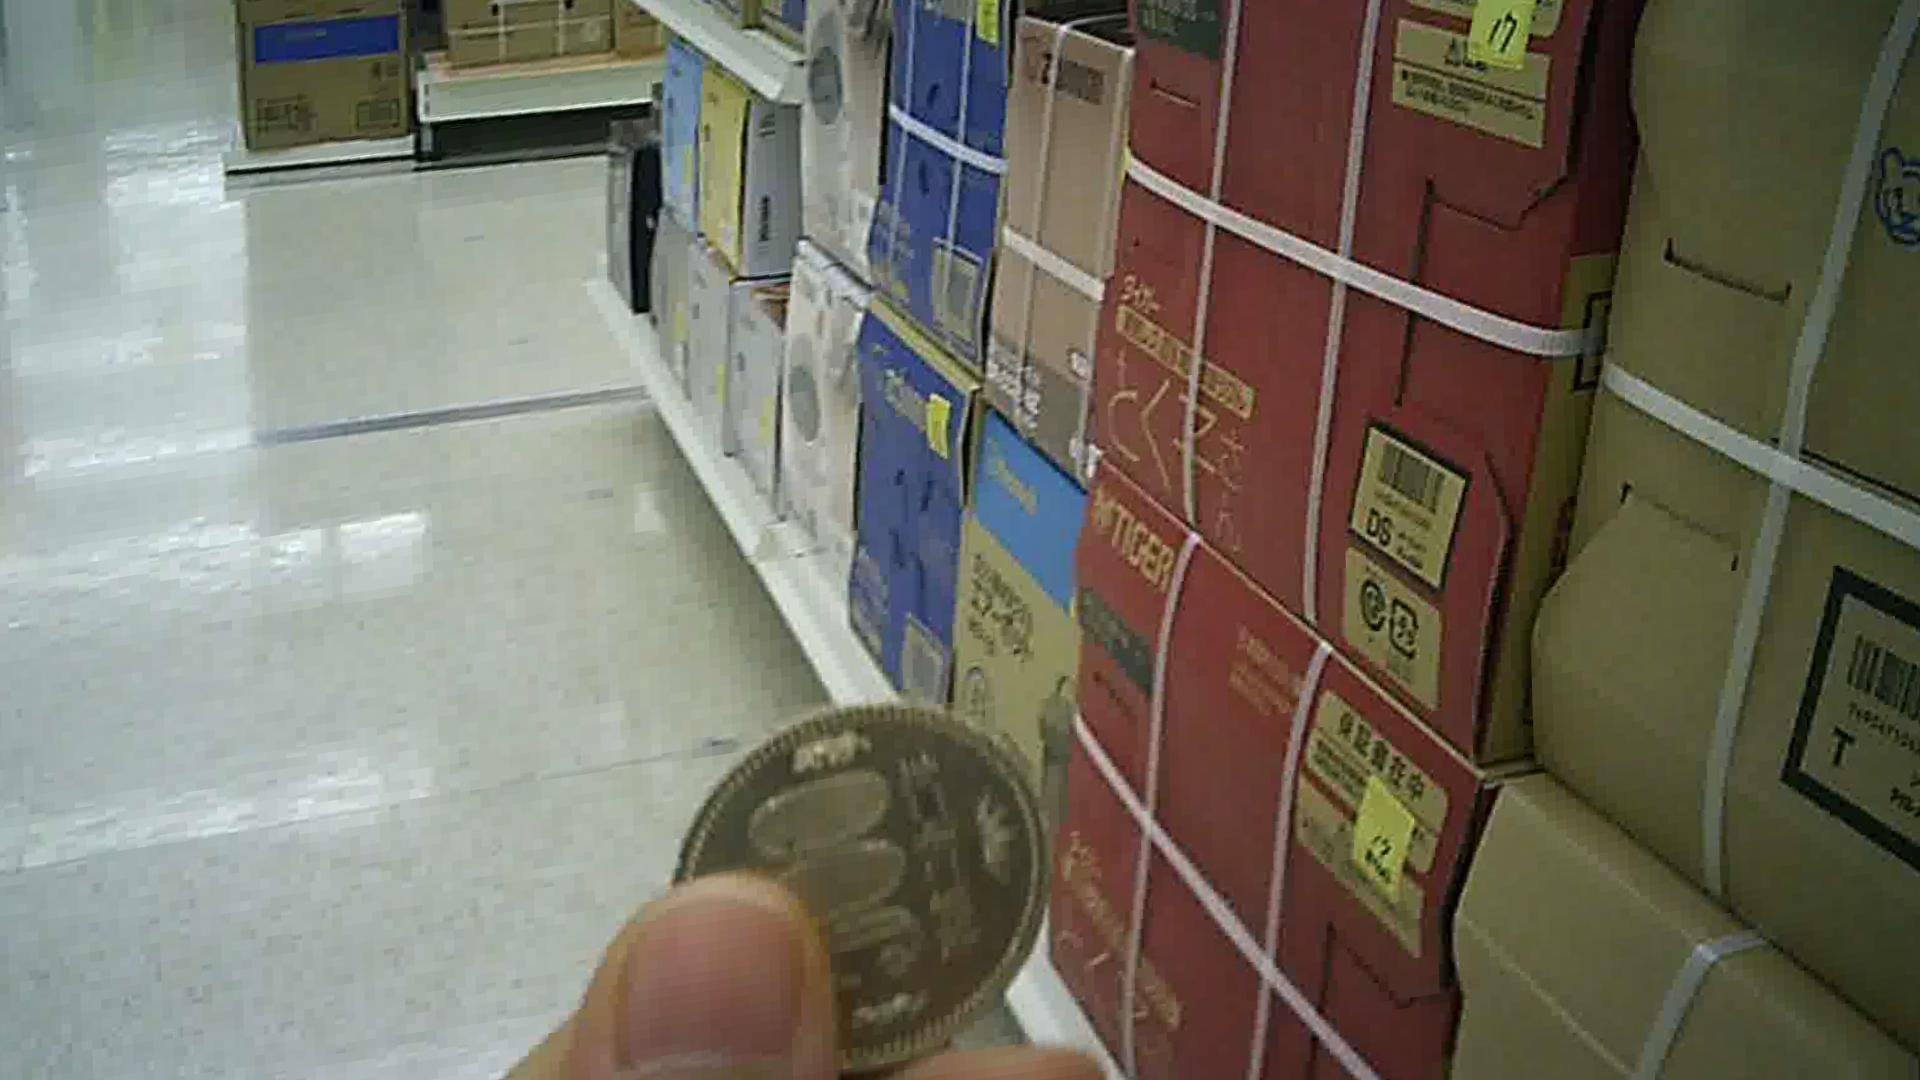500 Yen: (659, 709, 1065, 1058)
